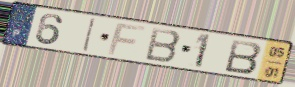1: (194, 33, 213, 71)
6: (35, 12, 64, 46)
B: (143, 26, 184, 65), (223, 38, 263, 75)
F: (105, 22, 148, 56)
I: (80, 16, 99, 53)
